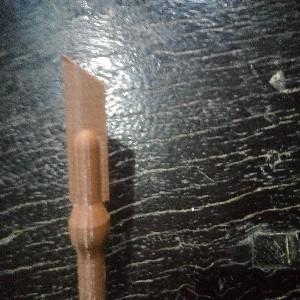cutter: (59, 52, 112, 300)
